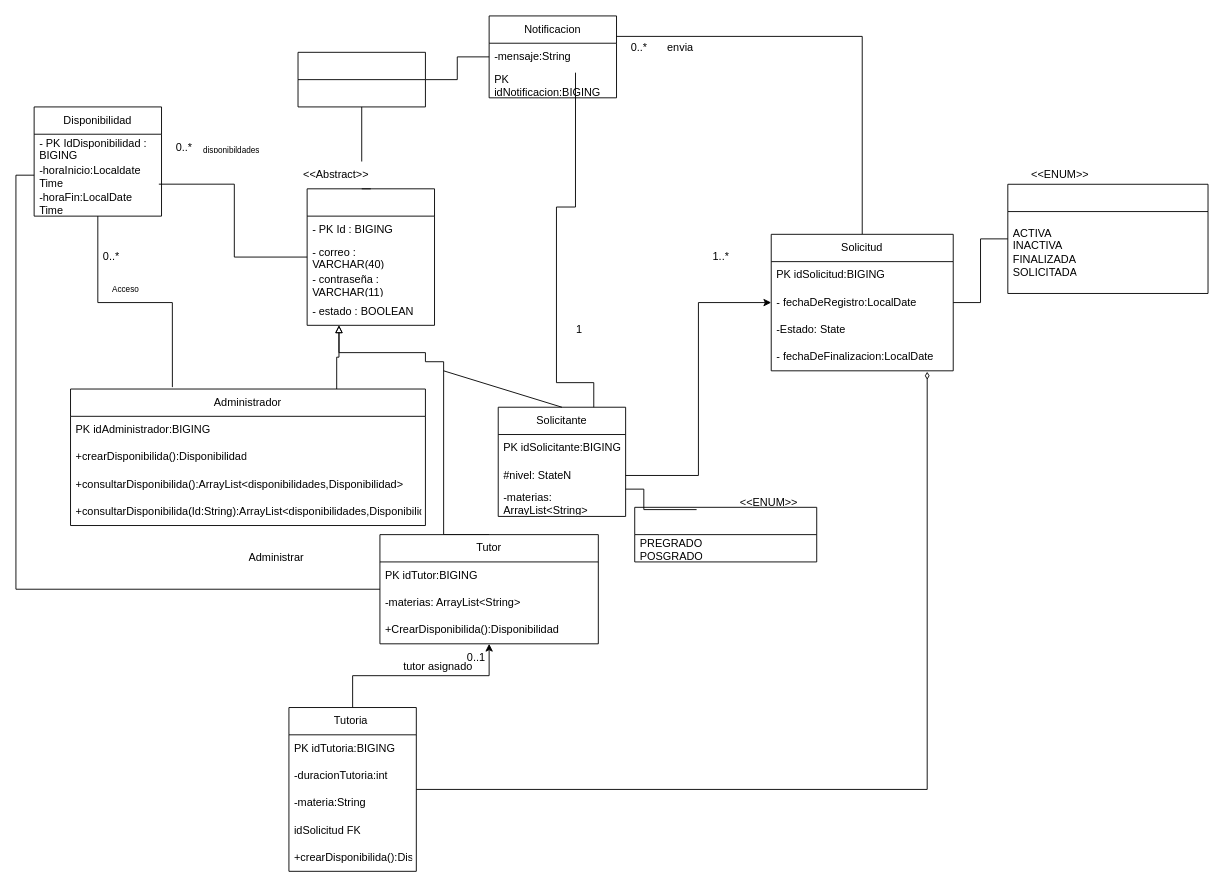
Some shapes in this 1224 by 887 pixel diagram are drawn without their labels. The shapes that lost their labels are listed below. From the top down, each one's box as (x1, y1, x2, y2) in pixels, then its label:
(297, 51, 425, 107): TutoEci
(306, 188, 435, 325): Usuario
(1007, 183, 1208, 293): State
(634, 506, 817, 562): StateN
